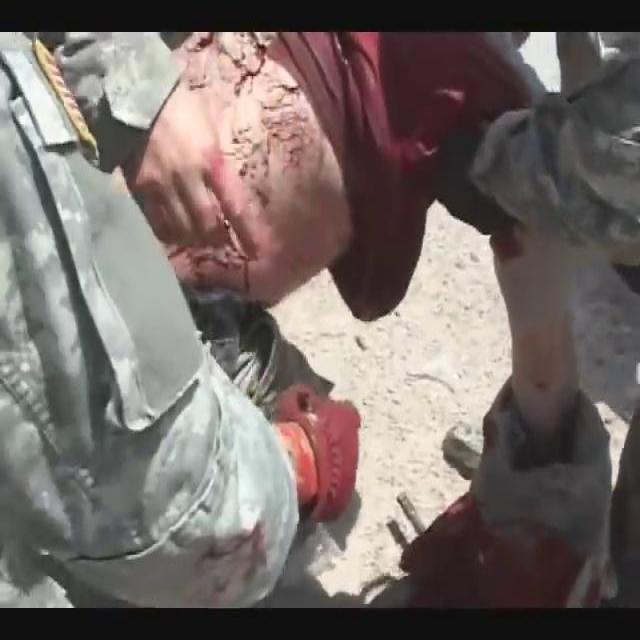flood: (185, 30, 315, 191)
